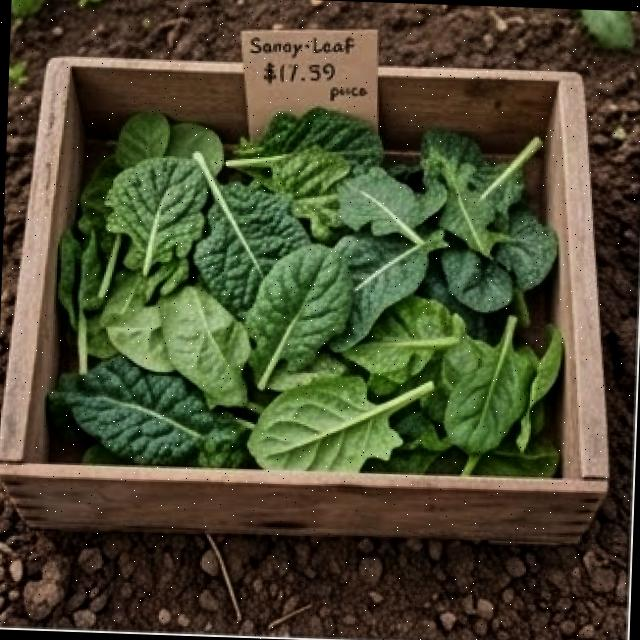spinach: (0, 71, 628, 575)
